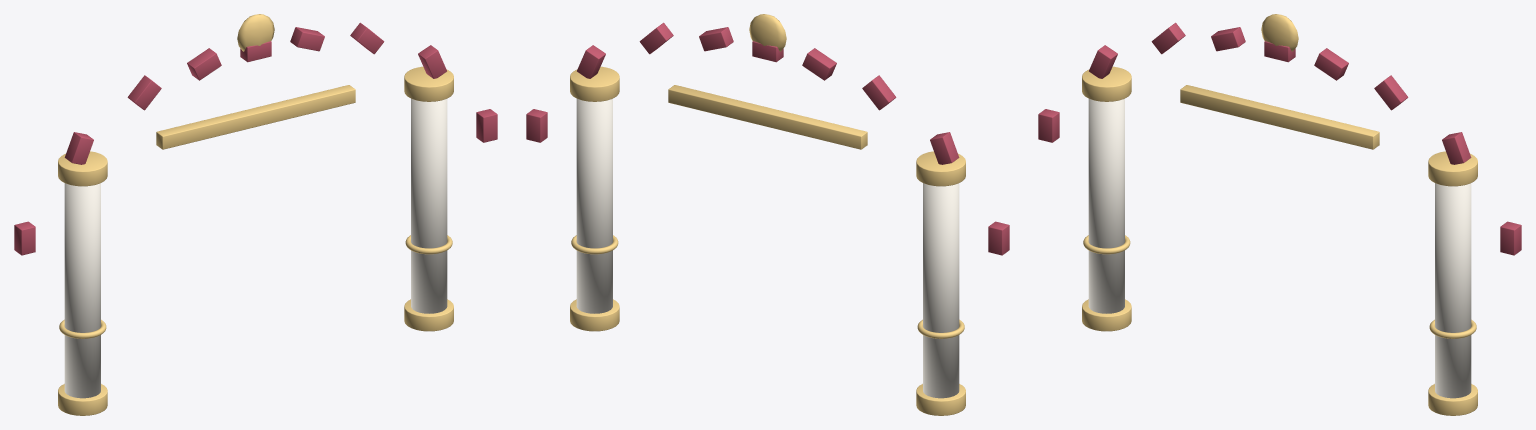
The model's file is opera_arch.glb.
3 views of the same model, side by side, from view 1: azimuth 30°, elevation 25°; view 2: azimuth 150°, elevation 25°; view 3: azimuth 330°, elevation 25° (orthographic).
Visible parts, largest first — view 1: column.001, column, lintel, cap.001, cap, base.001, base, star_keystone, arch_stone, arch_stone.001, arch_stone.003, arch_stone.008 (+5 smaller); view 2: column.001, column, lintel, cap.001, cap, base.001, base, star_keystone, arch_stone, arch_stone.001, arch_stone.003, arch_stone.008 (+5 smaller); view 3: column, column.001, lintel, cap, cap.001, base, base.001, star_keystone, arch_stone.007, arch_stone.008, arch_stone, arch_stone.005 (+5 smaller).
Boxes of the visible parts, x1=… form: column.001: x1=411, y1=98, x2=447, y2=313; column: x1=64, y1=183, x2=100, y2=398; lintel: x1=156, y1=85, x2=355, y2=149; cap.001: x1=404, y1=66, x2=453, y2=101; cap: x1=58, y1=151, x2=107, y2=186; base.001: x1=404, y1=299, x2=453, y2=331; base: x1=58, y1=384, x2=107, y2=415; star_keystone: x1=237, y1=14, x2=274, y2=51; arch_stone: x1=14, y1=221, x2=35, y2=255; arch_stone.001: x1=64, y1=132, x2=93, y2=164; arch_stone.003: x1=187, y1=48, x2=221, y2=80; arch_stone.008: x1=476, y1=109, x2=497, y2=142; column.001: x1=576, y1=98, x2=612, y2=313; column: x1=923, y1=183, x2=959, y2=398; lintel: x1=668, y1=85, x2=867, y2=149; cap.001: x1=570, y1=66, x2=619, y2=101; cap: x1=916, y1=151, x2=965, y2=186; base.001: x1=570, y1=299, x2=619, y2=331; base: x1=916, y1=384, x2=965, y2=415; star_keystone: x1=749, y1=14, x2=786, y2=51; arch_stone: x1=988, y1=221, x2=1009, y2=255; arch_stone.001: x1=930, y1=132, x2=959, y2=164; arch_stone.003: x1=802, y1=48, x2=836, y2=80; arch_stone.008: x1=526, y1=109, x2=547, y2=142; column: x1=1088, y1=98, x2=1124, y2=313; column.001: x1=1435, y1=183, x2=1471, y2=398; lintel: x1=1180, y1=85, x2=1379, y2=149; cap: x1=1082, y1=66, x2=1131, y2=101; cap.001: x1=1428, y1=151, x2=1477, y2=186; base: x1=1082, y1=299, x2=1131, y2=331; base.001: x1=1428, y1=384, x2=1477, y2=415; star_keystone: x1=1261, y1=14, x2=1298, y2=51; arch_stone.007: x1=1442, y1=132, x2=1471, y2=164; arch_stone.008: x1=1500, y1=221, x2=1521, y2=255; arch_stone: x1=1038, y1=109, x2=1059, y2=142; arch_stone.005: x1=1314, y1=48, x2=1348, y2=80.
Bounding box in the file's own units: 16.5 × 11.55 × 1.5.
